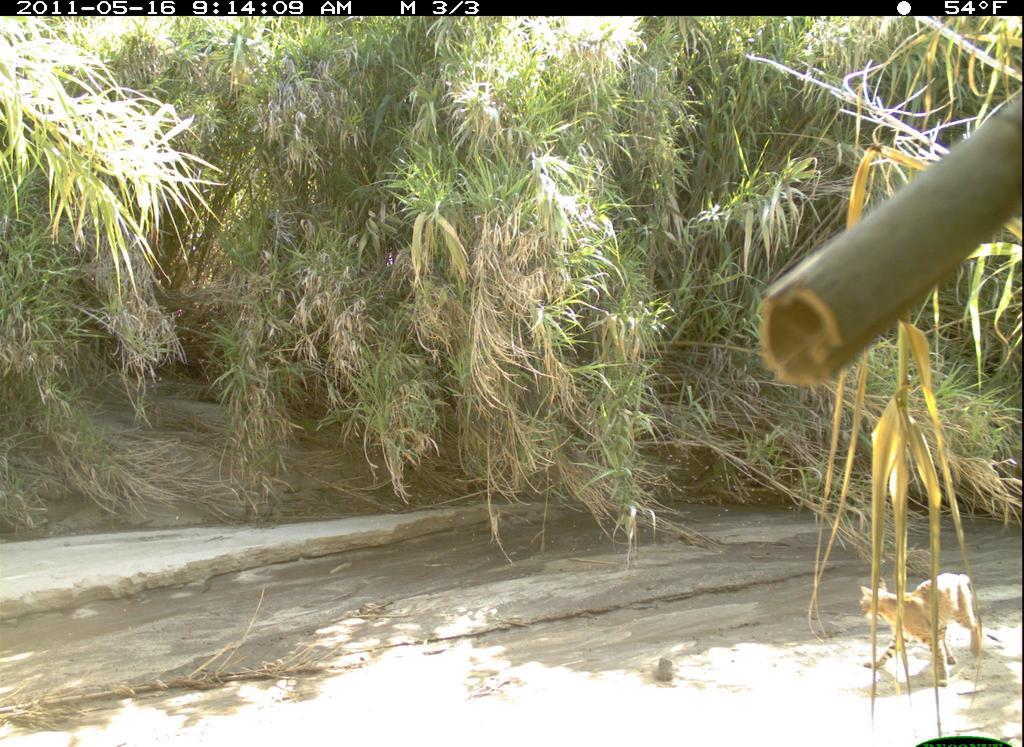bobcat: (849, 551, 996, 717)
